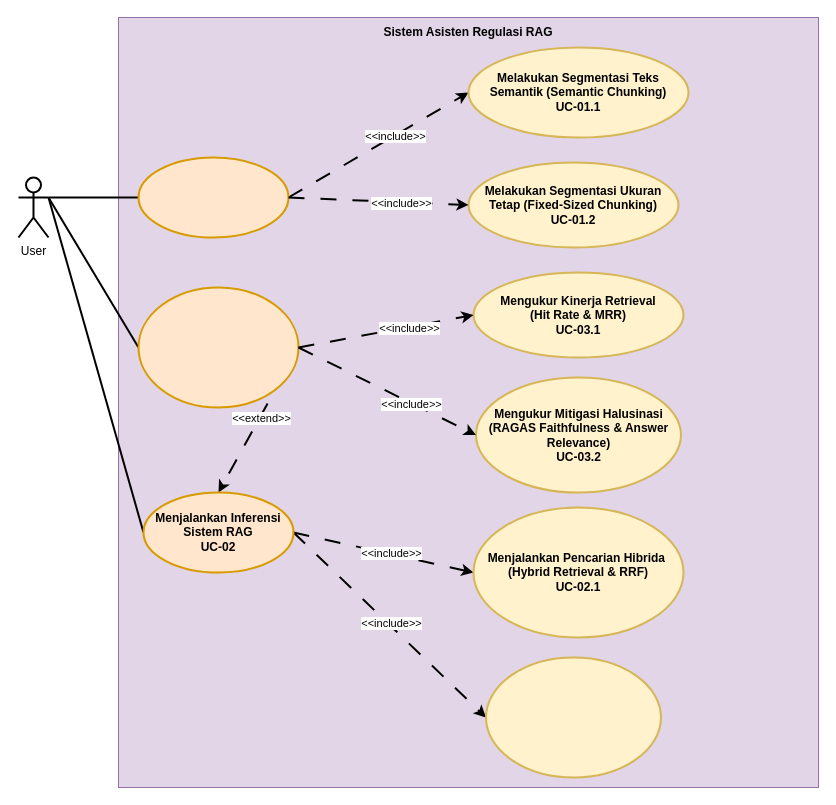
The diagram is 836 pixels wide and 805 high, and some of its shapes have lost their labels. Here are the shapes that lost their labels. From the top down, the centre of each, then its label:
point 213,197: Mengelola Indeksasi Basis Pengetahuan UC-01
point 218,347: Mengevaluasi Keandalan dan Akurasi Sistem UC-03
point 573,717: Menjalankan Pencarian Tunggal (Sparse/Dense Retrieval) UC-02.2
